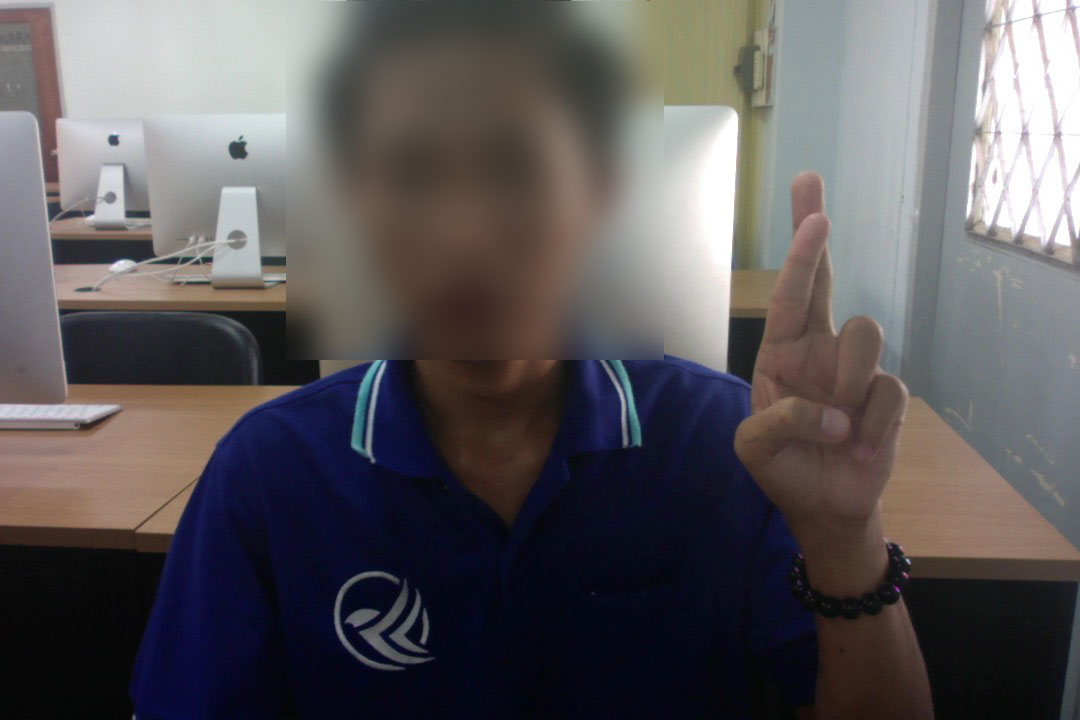rao: (730, 169, 915, 537)
